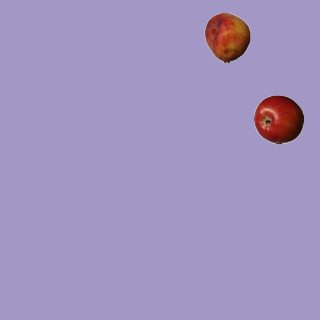Apple Braeburn: (253, 94, 303, 144)
Peach: (202, 12, 252, 62)
